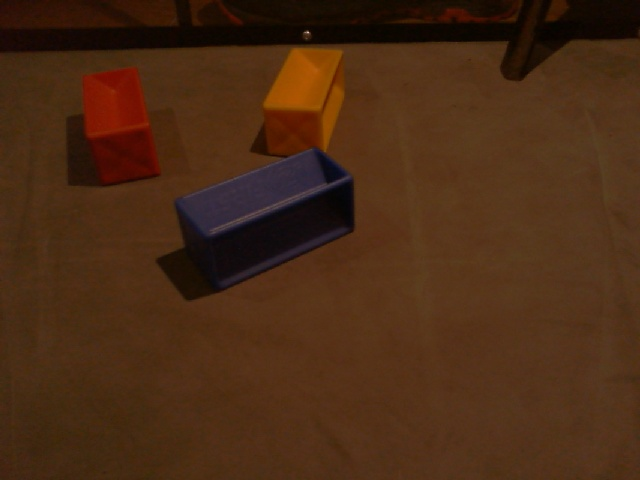BlueSample: (172, 146, 357, 290)
RedSample: (79, 64, 163, 190)
YellowSample: (260, 45, 345, 162)
